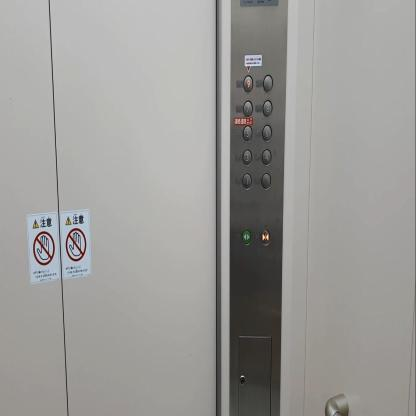1: (242, 172, 251, 190)
3: (242, 148, 252, 166)
4: (261, 147, 271, 166)
5: (242, 124, 253, 142)
6: (262, 123, 272, 142)
7: (242, 99, 253, 117)
8: (262, 98, 272, 117)
9: (243, 74, 253, 93)
close: (260, 228, 270, 245)
empty: (263, 73, 273, 93), (261, 172, 271, 189)
open: (241, 228, 252, 246)
